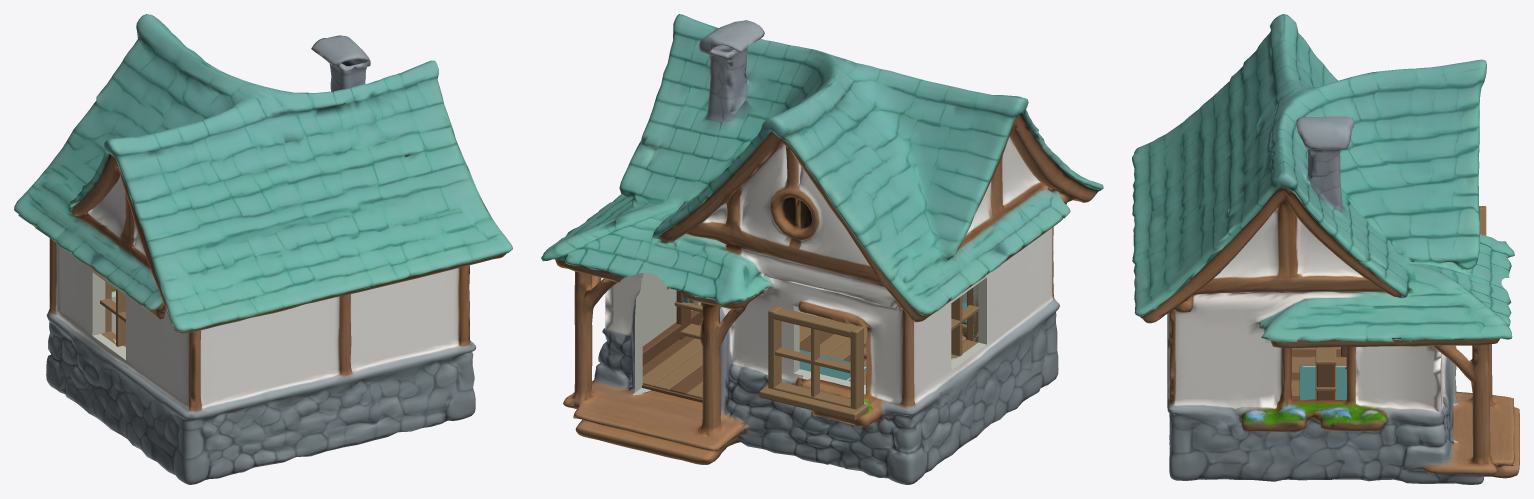
The model's file is cottage.glb.
3 renders of one model, left to right at view 1: azimuth 30°, elevation 25°; view 2: azimuth 150°, elevation 25°; view 3: azimuth 270°, elevation 25°, orthographic. The views are drawn at different scales.
Parts seen in each view (by area): view 1: model; view 2: model, Front window sill, Front window rail.001, Front window jamb.001, Front window jamb, Floor plank.001, Room skirting, Floor plank.002, Front window rail, Front window transom, Side window mullion; view 3: model, Woven rug, Shelf upright.
Part boxes in pixels (left/top/right/bottom): model: left=14, top=14, right=512, bottom=484; model: left=541, top=14, right=1103, bottom=484; Front window sill: left=759, top=385, right=868, bottom=420; Front window rail.001: left=768, top=307, right=863, bottom=338; Front window jamb.001: left=850, top=325, right=863, bottom=409; Front window jamb: left=768, top=305, right=781, bottom=388; Floor plank.001: left=642, top=338, right=702, bottom=386; Room skirting: left=642, top=310, right=702, bottom=365; Floor plank.002: left=653, top=349, right=702, bottom=390; Front window rail: left=768, top=382, right=859, bottom=409; Front window transom: left=775, top=347, right=850, bottom=373; Side window mullion: left=951, top=295, right=962, bottom=356; model: left=1132, top=14, right=1519, bottom=484; Woven rug: left=1299, top=365, right=1346, bottom=400; Shelf upright: left=1316, top=365, right=1335, bottom=400.
Size of the model in its own units: 6.69 by 6 by 6.29.
9 materials, 1 textured.
